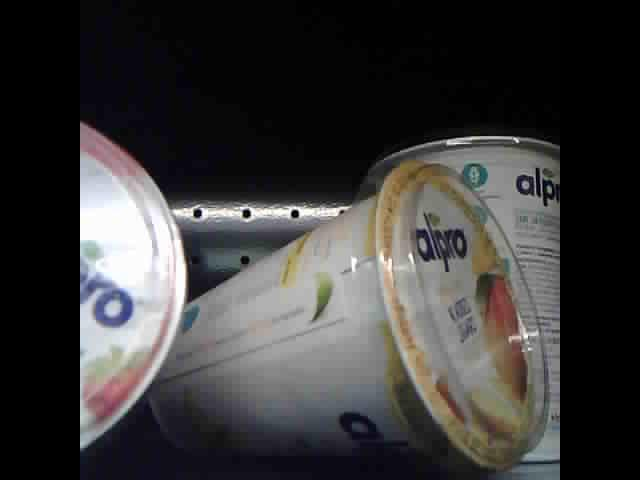alpro: (146, 159, 551, 475), (374, 134, 560, 465), (80, 118, 186, 453)
